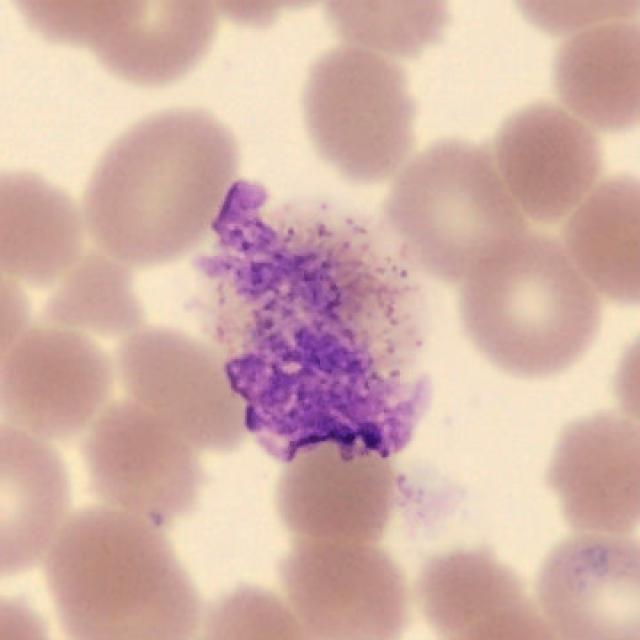Restos celulares: (188, 181, 432, 464)
